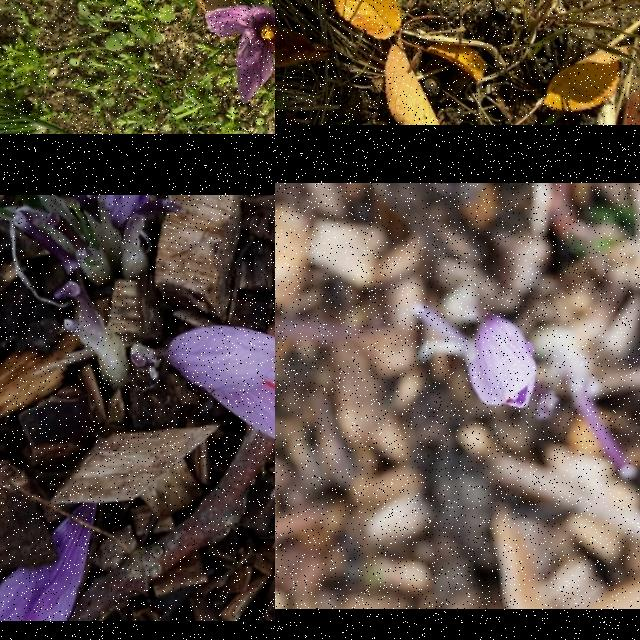flower: (159, 326, 275, 450), (462, 313, 538, 409), (205, 5, 275, 104)
